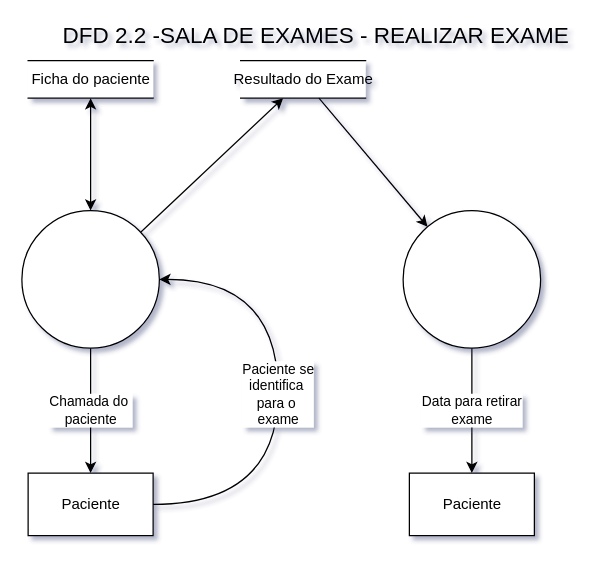
Some shapes in this 608 by 565 pixel diagram are drawn without their labels. The centre of each missing label's shape, as x and y in pixels:
"Informar Data para retirar Exame" belongs at point 471,278.
"Realizar Exame" belongs at point 90,278.
